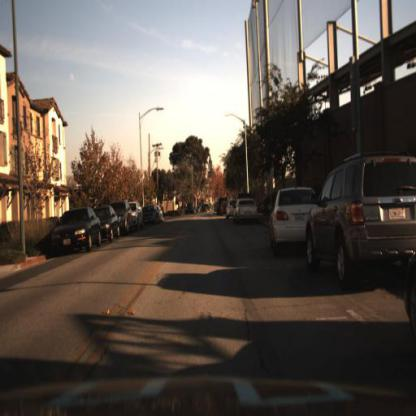car: (305, 149, 415, 285), (257, 176, 313, 256), (49, 197, 101, 264), (95, 201, 120, 246), (232, 191, 258, 224), (100, 204, 119, 241), (142, 200, 161, 227), (117, 200, 131, 236), (225, 194, 238, 225), (132, 199, 143, 231), (183, 200, 194, 218)
